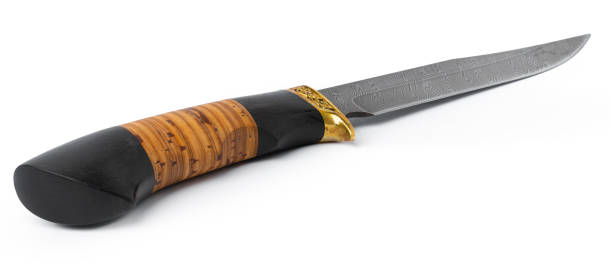knife: (12, 34, 593, 231)
